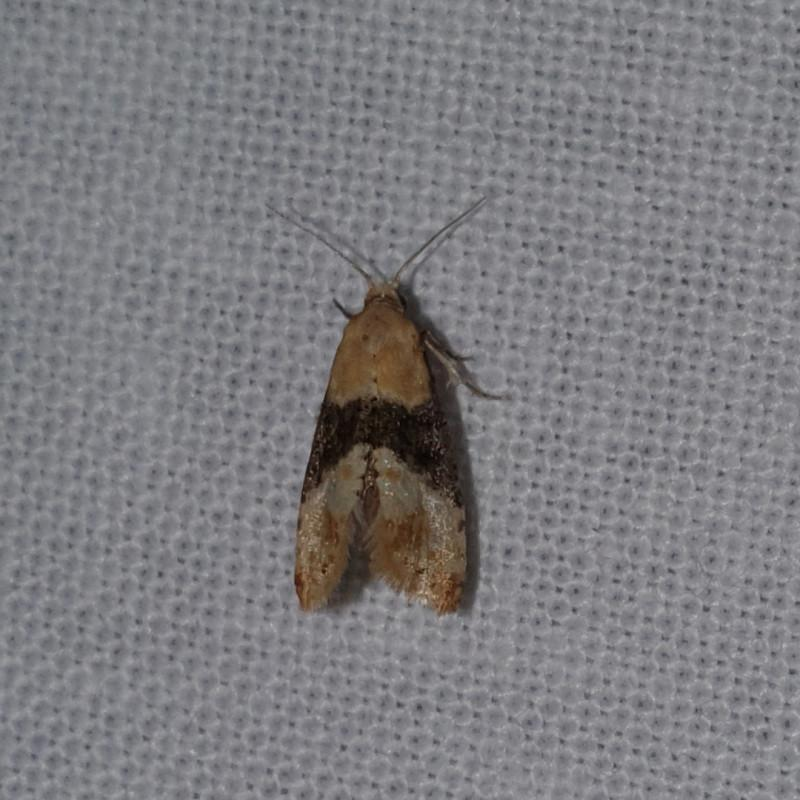Eupoecilia Ambiguella: (261, 190, 506, 619)
